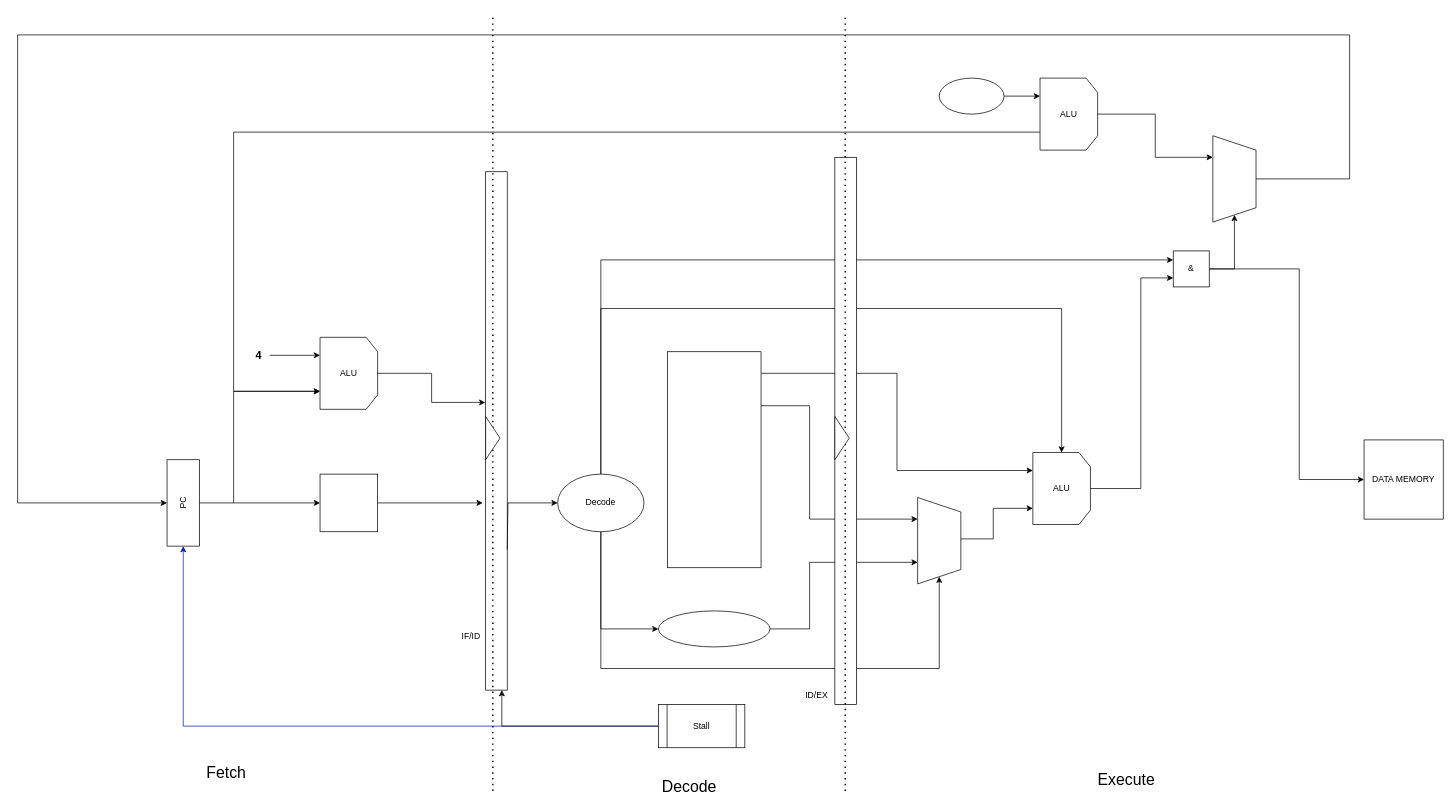
Image size: 1456x810. Some labels were removed from this diagram. Each missing label, with the box of its shape:
Instruction Memory: (319, 473, 378, 532)
Register FIle: (667, 351, 761, 568)
Shift: (939, 77, 1004, 114)
Sign-Extend: (658, 610, 770, 647)
